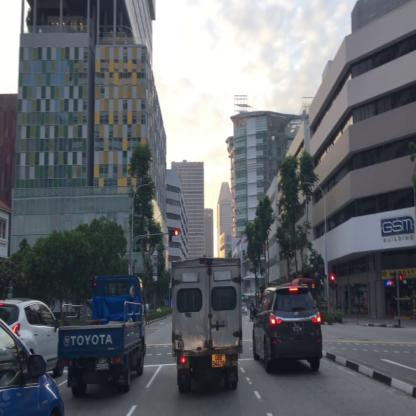red_traffic_light: (169, 230, 178, 235)
